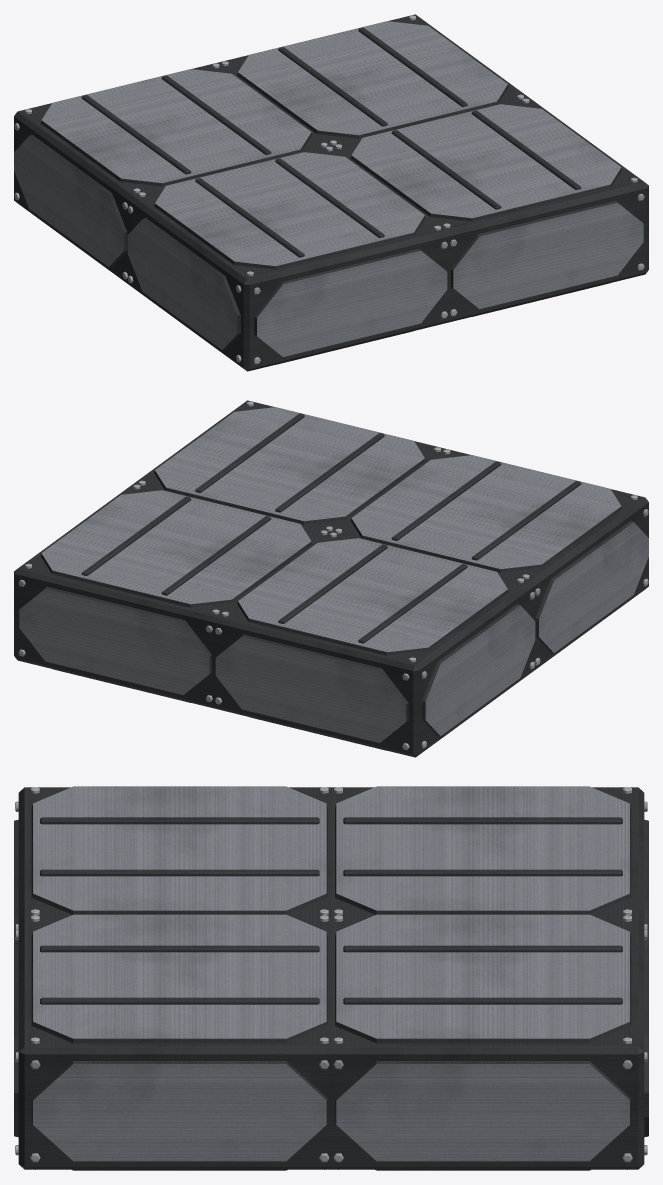
Rendered from R4B_Plate2x2.glb.
The picture shows the model from 3 angles, top to bottom: view 1: azimuth 30°, elevation 25°; view 2: azimuth 150°, elevation 25°; view 3: azimuth 270°, elevation 25°; orthographic projection. The views are drawn at different scales.
Parts seen in each view (by area): view 1: R4B_Plate2x2; view 2: R4B_Plate2x2; view 3: R4B_Plate2x2.
Part boxes in pixels (<box>): R4B_Plate2x2: <box>14,14,648,371</box>; R4B_Plate2x2: <box>14,400,648,757</box>; R4B_Plate2x2: <box>14,786,648,1170</box>.
Size of the model in its own units: 1.07 by 0.252 by 1.07.
Materials: 3 (3 with a texture image).
